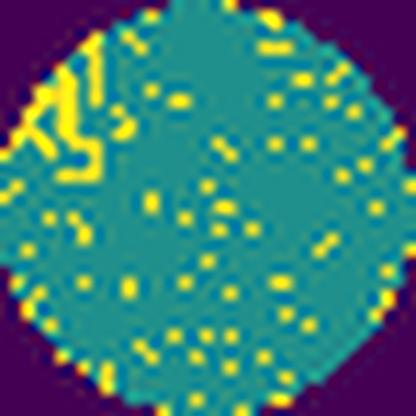Edge-Loc: (0, 64, 103, 183), (80, 30, 104, 110)
